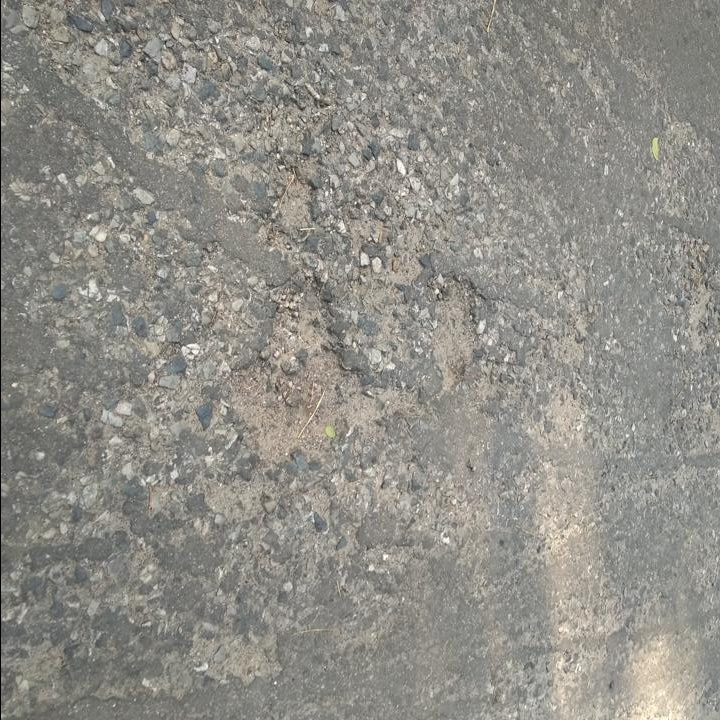pothole: (228, 270, 388, 466), (423, 271, 484, 393), (274, 161, 319, 234)
